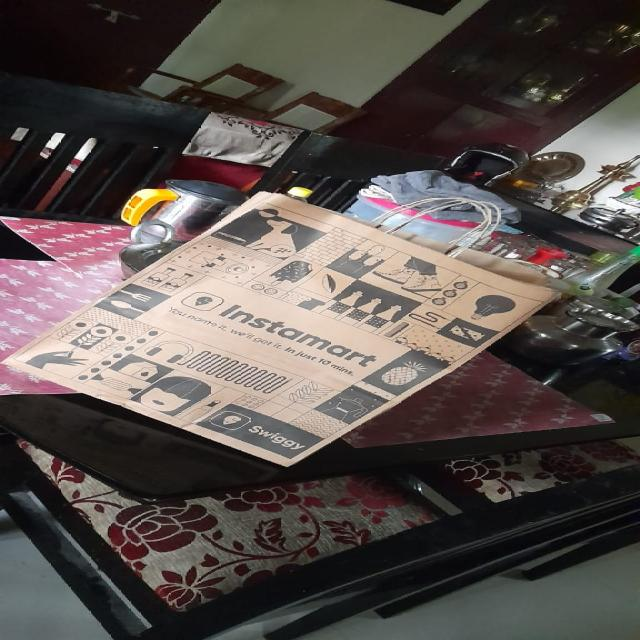Paper_Bag - Recyclable: (2, 190, 564, 468)
